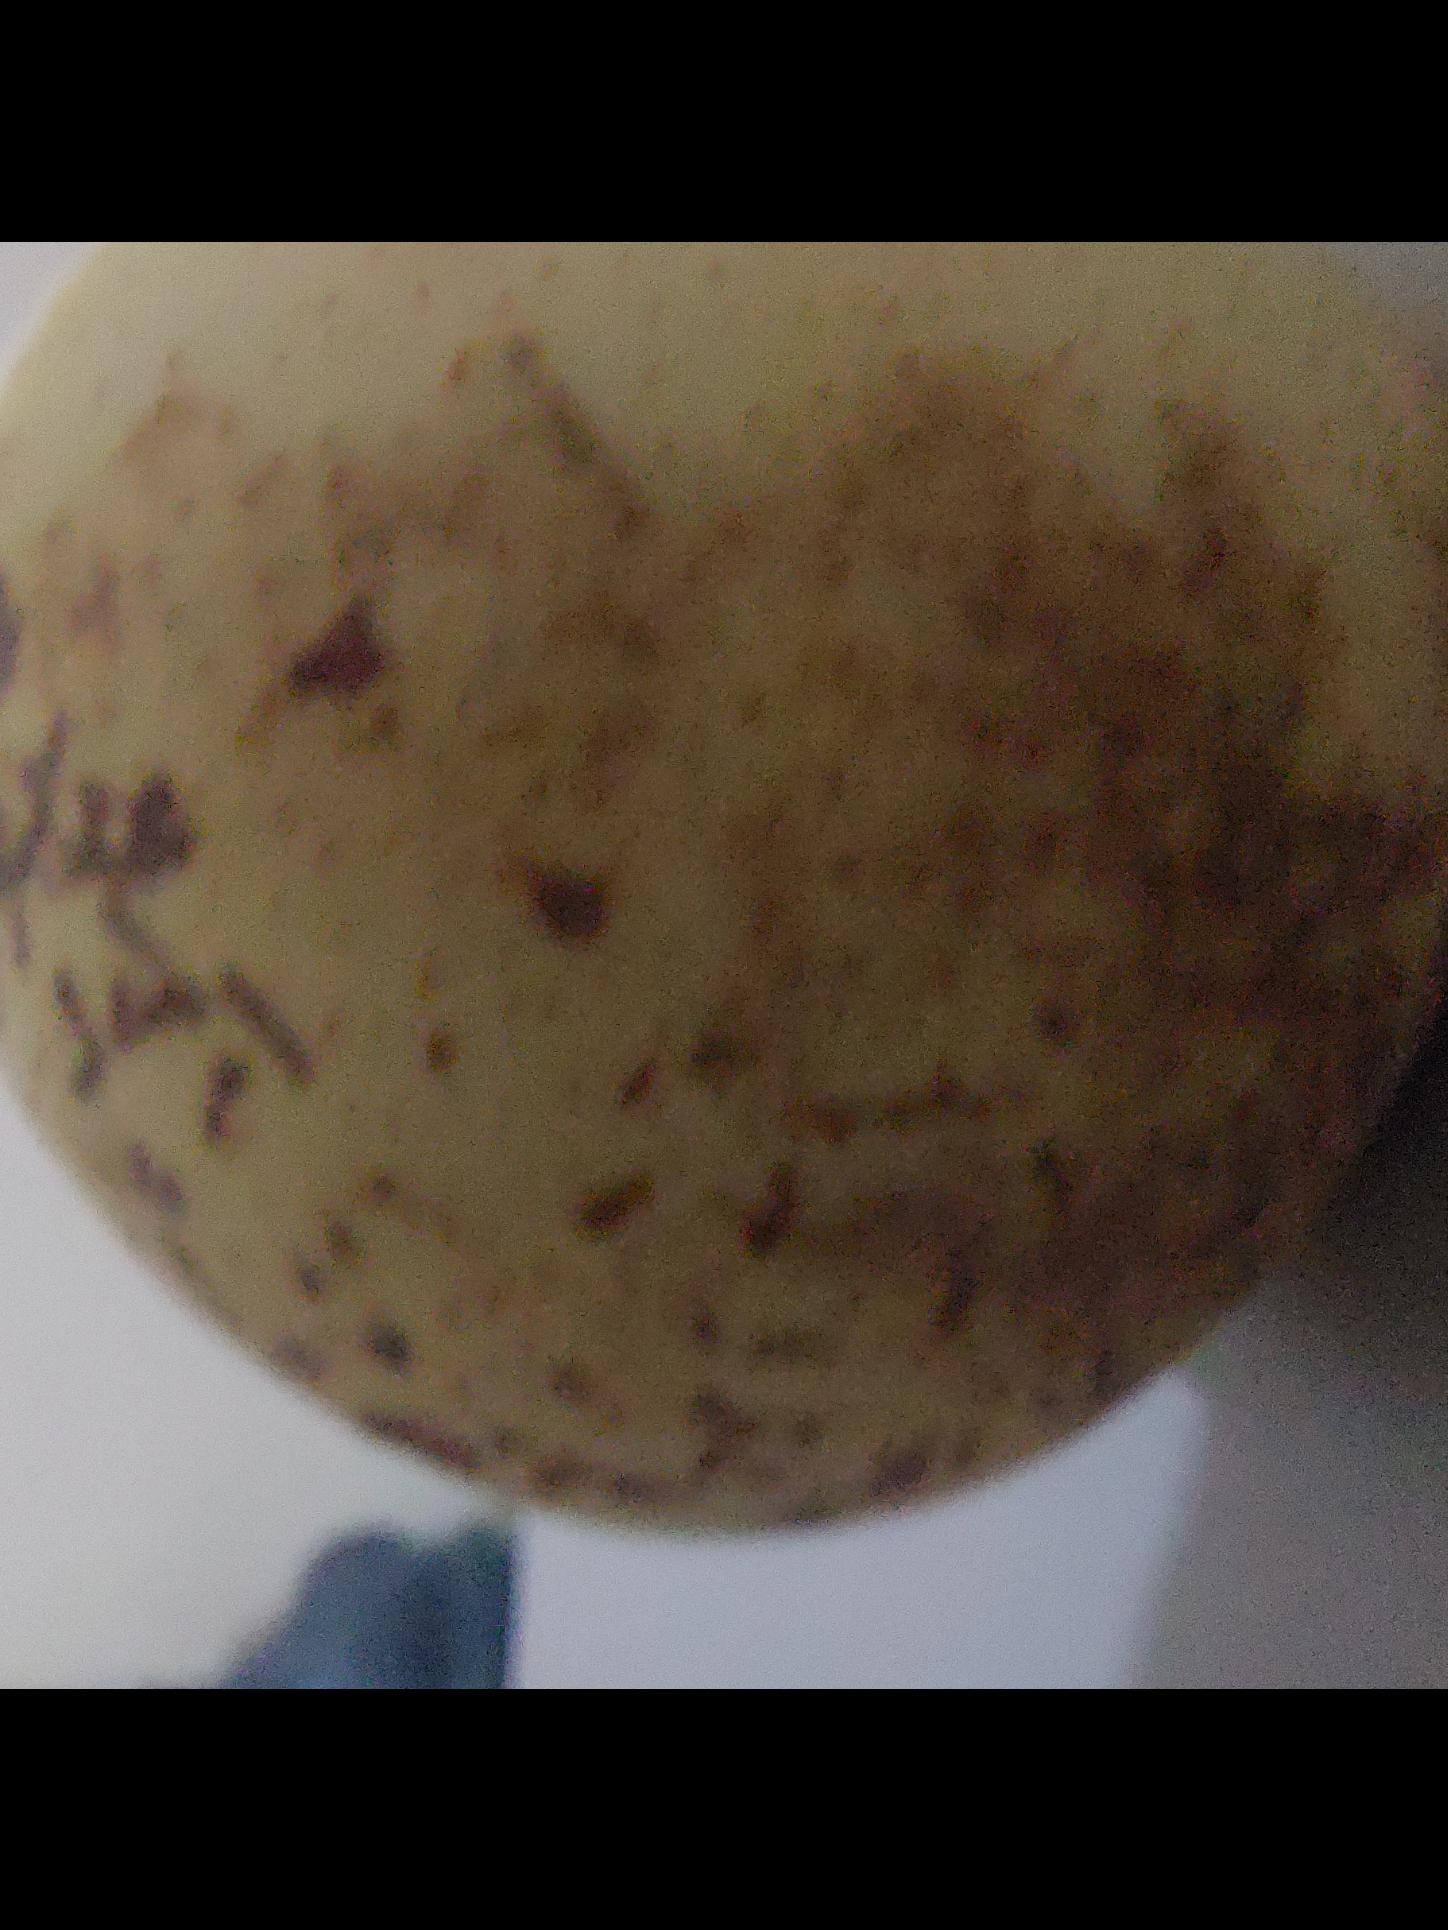Bad Pear: (0, 240, 1448, 1538)
